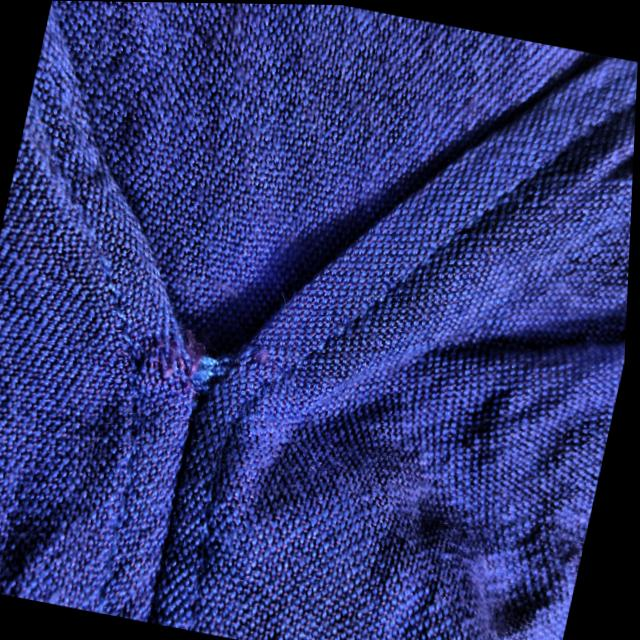Stitch: (105, 311, 272, 452)
